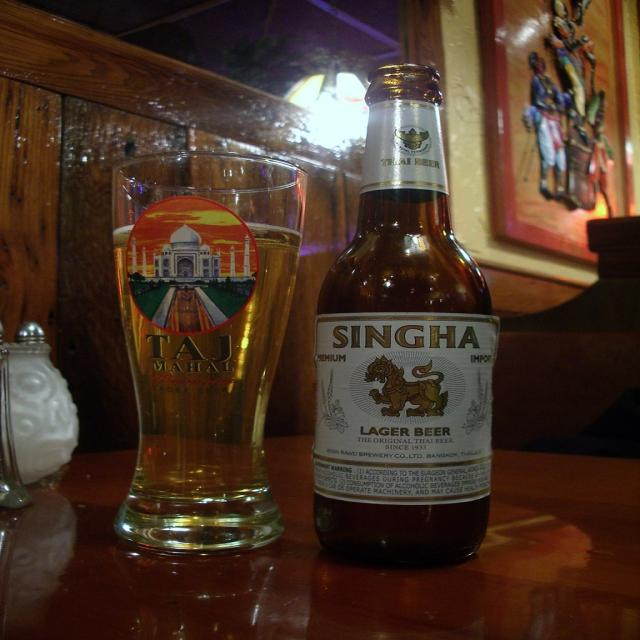singha: (313, 317, 499, 465)
